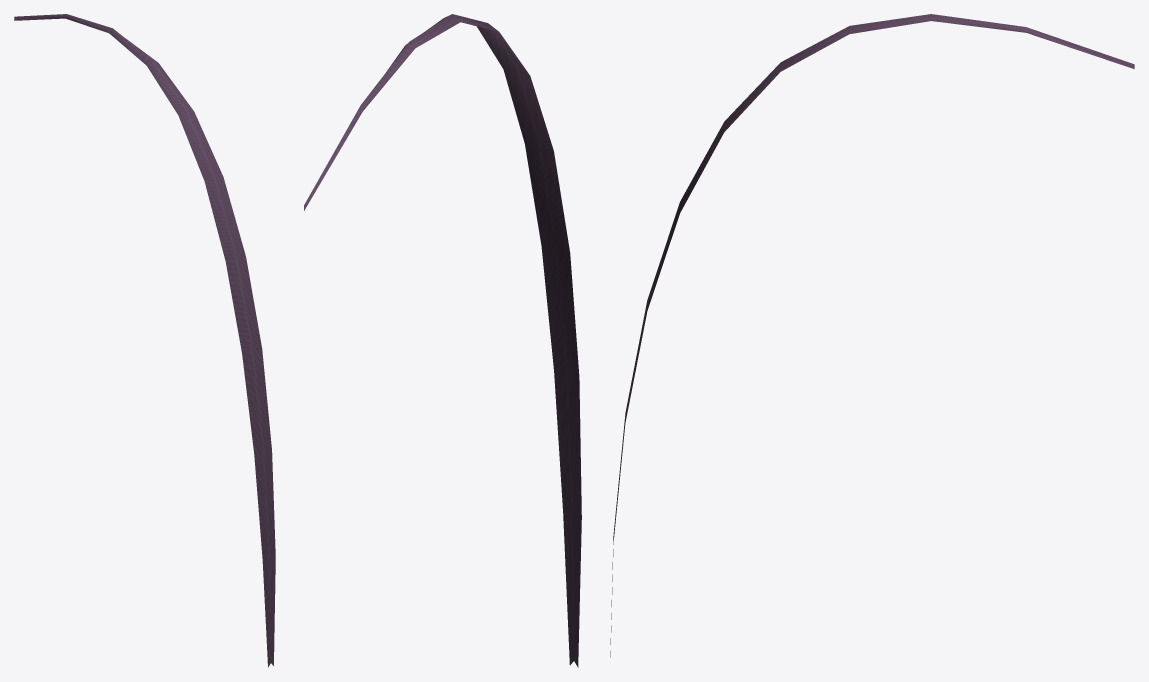
File: single_blade_10.glb
3 views of the same model, side by side, from view 1: azimuth 30°, elevation 25°; view 2: azimuth 150°, elevation 25°; view 3: azimuth 270°, elevation 25° (orthographic). The views are drawn at different scales.
Visible parts, largest first — view 1: export; view 2: export; view 3: export.
Boxes of the visible parts, box(x1,y1,x2,y2) form: export: box(14, 14, 275, 667); export: box(304, 14, 581, 667); export: box(610, 14, 1134, 657).
Bounding box in the file's own units: 0.0799 × 1.01 × 0.7484.
Materials: 1 (1 with a texture image).
